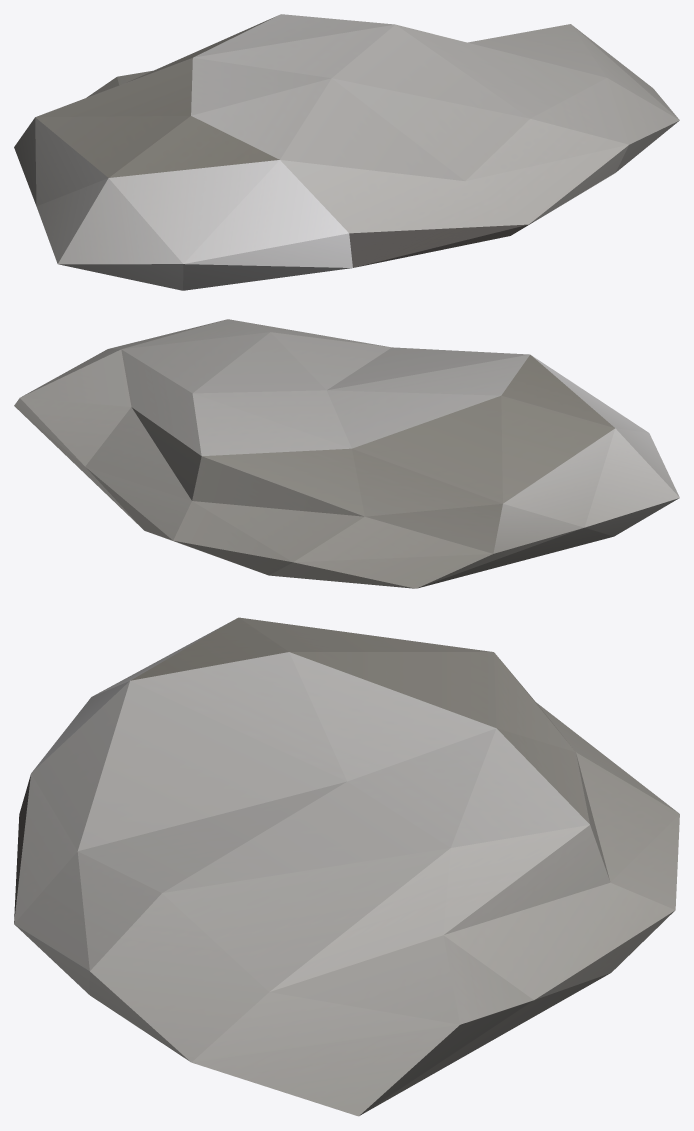
File: rock5.fbx
3 renders of one model, top to bottom at view 1: azimuth 30°, elevation 25°; view 2: azimuth 150°, elevation 25°; view 3: azimuth 270°, elevation 25°, orthographic. The views are drawn at different scales.
Parts seen in each view (by area): view 1: ROCKS.005; view 2: ROCKS.005; view 3: ROCKS.005.
Part boxes in pixels (bbox=[...]): ROCKS.005: bbox=[14, 14, 679, 290]; ROCKS.005: bbox=[14, 319, 679, 588]; ROCKS.005: bbox=[14, 617, 679, 1116].
Size of the model in its own units: 470 by 94.54 by 314.
